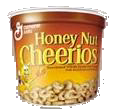grozi_95: (8, 6, 107, 109)
